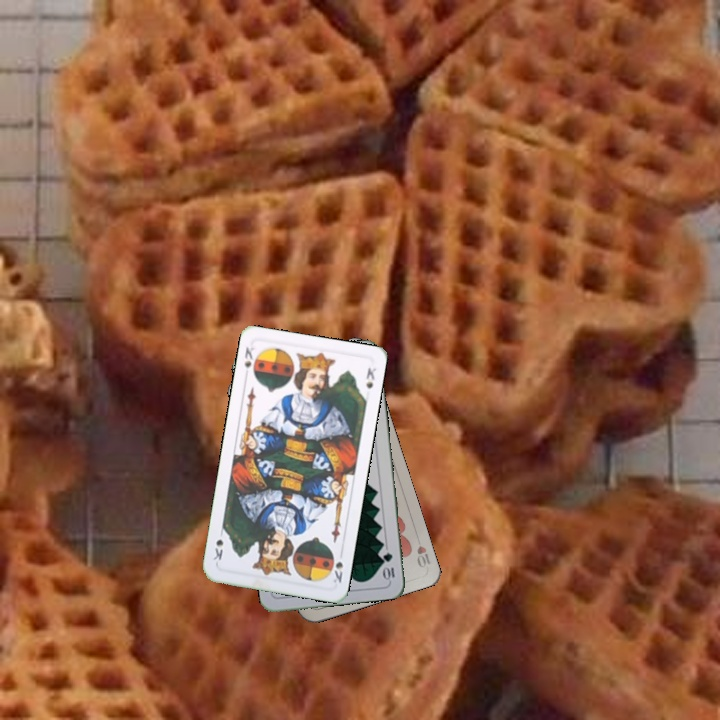G10: (379, 549, 397, 582)
H10: (412, 531, 433, 570)
SK: (240, 340, 261, 381), (329, 557, 346, 585)
